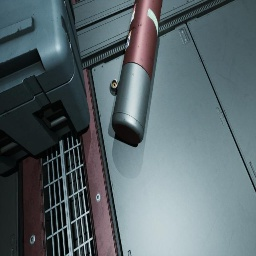NitrogenTank ,: (112, 0, 163, 144)
